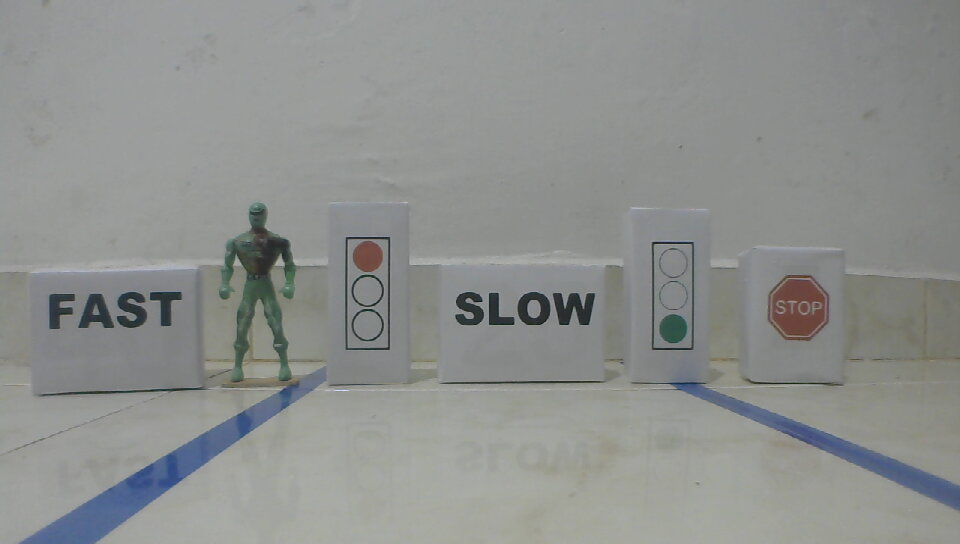Fast: (45, 289, 186, 334)
Green Traffic Light: (648, 239, 697, 354)
Person: (217, 197, 300, 385)
Red Traffic Light: (342, 234, 394, 353)
Slow: (452, 290, 597, 329)
Stop Sign: (766, 272, 833, 342)
